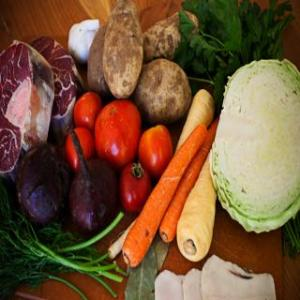beet: (14, 136, 70, 232), (68, 159, 124, 245)
cabbage: (206, 62, 300, 235)
carrot: (120, 123, 208, 273)
garlic: (66, 14, 100, 66)
potato: (102, 1, 146, 103), (131, 56, 195, 124), (140, 4, 204, 66), (90, 21, 110, 92)
tomato: (97, 97, 138, 165), (138, 126, 174, 172), (121, 162, 151, 210), (72, 87, 104, 129)
